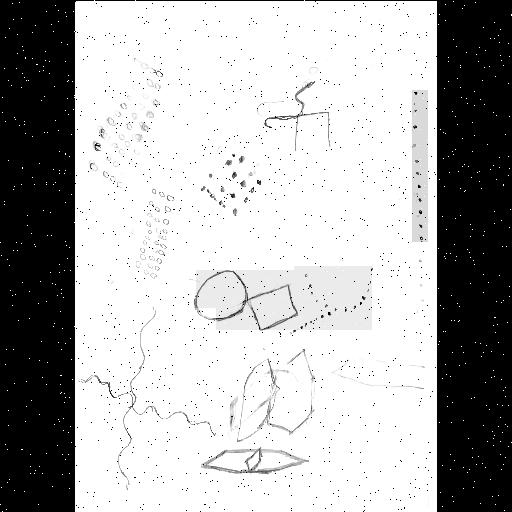shape-1: (196, 270, 296, 330)
shape-2: (412, 90, 428, 242)
shape-4: (134, 186, 176, 280), (202, 153, 260, 215)
shape-5: (264, 78, 330, 150)
shape-6: (294, 266, 372, 330)
shape-7: (78, 308, 216, 488)
shape-8: (238, 350, 314, 440)
shape-9: (200, 446, 308, 474)
